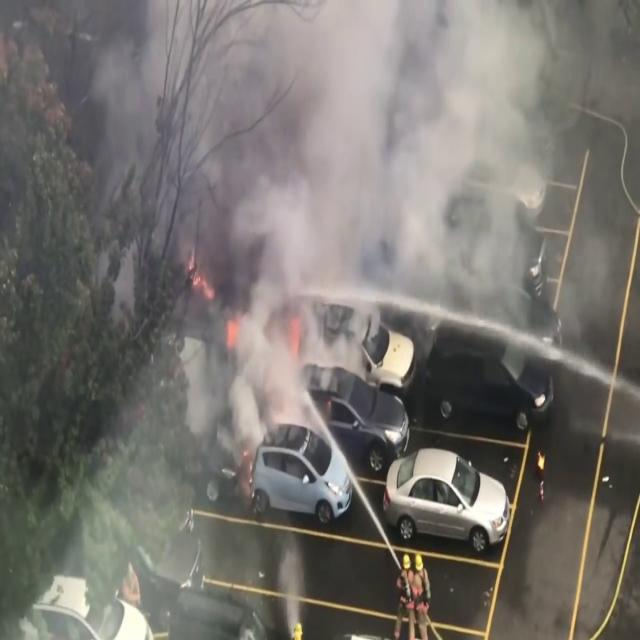Smoke: (79, 0, 637, 445)
